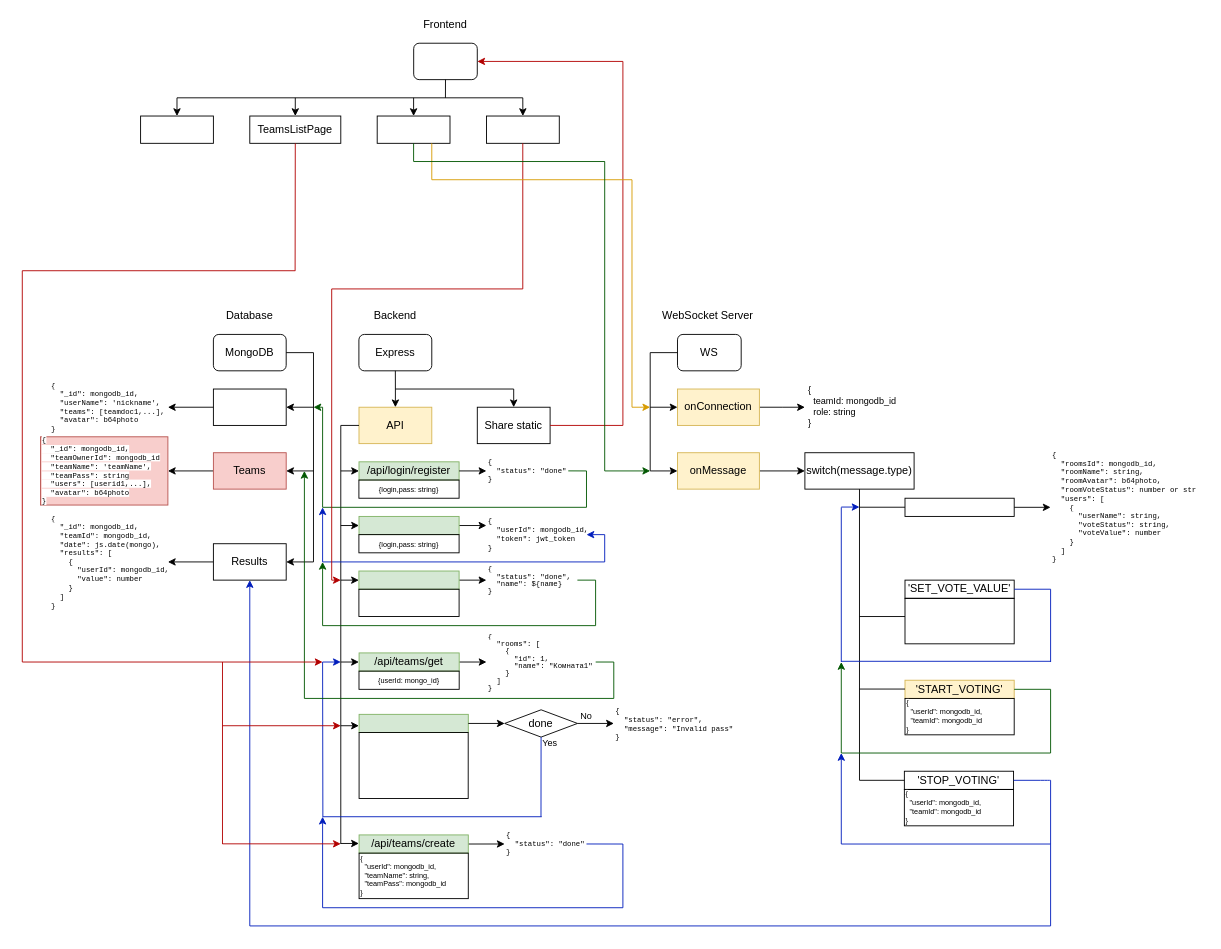
Image size: 1221x949. Some labels were removed from this diagram. Here are the shapes that lost their labels. From the top down, the box of each, then its label:
(413, 42, 477, 80): React.js
(140, 115, 213, 143): AuthPage
(376, 115, 450, 143): TeamPage
(486, 115, 559, 143): UserPage
(212, 388, 286, 425): Users
(358, 516, 459, 535): /api/login/login
(904, 497, 1014, 516): 'GET_TEAM_STATE'
(358, 570, 459, 589): /api/user/set_name
(358, 588, 459, 617): {id,token,name: string}
(904, 597, 1014, 644): { "userId": mongodb_id, "teamId": mongodb_id , "voteValue": number }
(358, 713, 468, 733): /api/teams/connect
(358, 732, 468, 799): { userId: mongodb_id, teamid: mongodb_id, pass: string }
